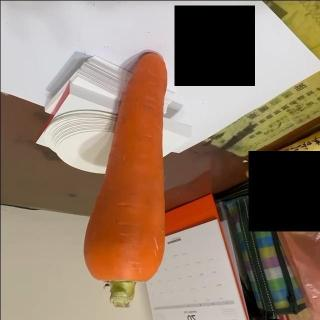carrot: (83, 50, 167, 308)
